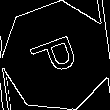P_E: (27, 31, 86, 82)
